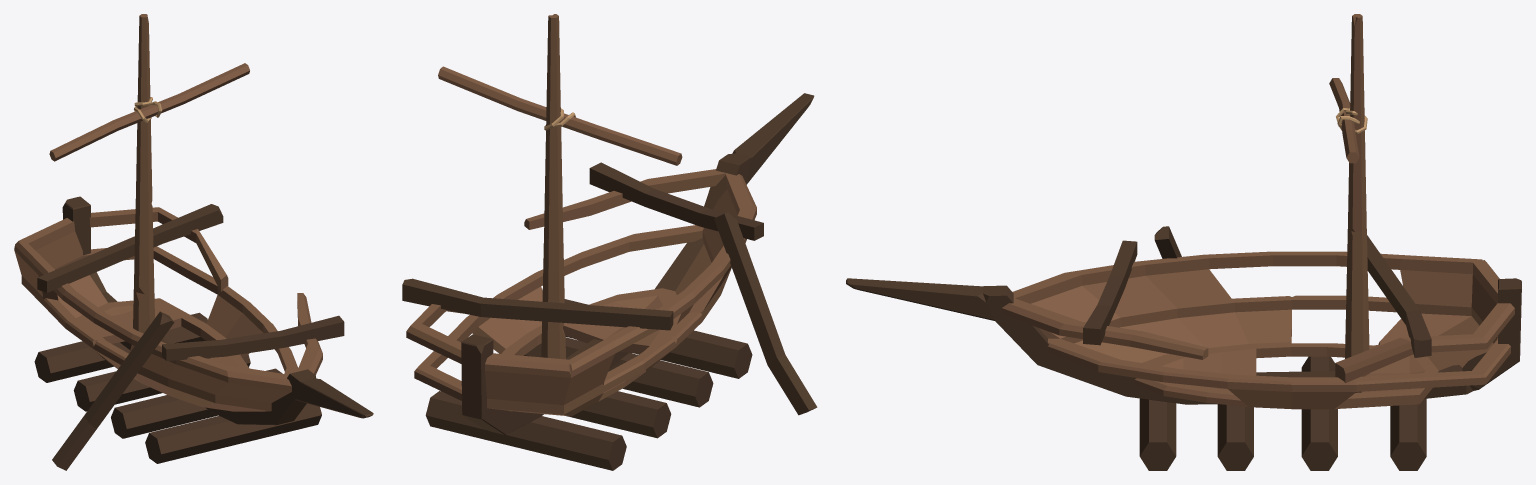
File: BoatBuilding.fbx
3 renders of one model, left to right at view 1: azimuth 30°, elevation 25°; view 2: azimuth 150°, elevation 25°; view 3: azimuth 270°, elevation 25°, orthographic. The views are drawn at different scales.
Visible parts, largest first — view 1: BoatBuilding; view 2: BoatBuilding; view 3: BoatBuilding.
Part boxes in pixels (left/top/right/bottom): BoatBuilding: left=14, top=14, right=373, bottom=470; BoatBuilding: left=402, top=14, right=817, bottom=470; BoatBuilding: left=846, top=14, right=1521, bottom=470.
Size of the model in its own units: 320 by 423 by 626.
